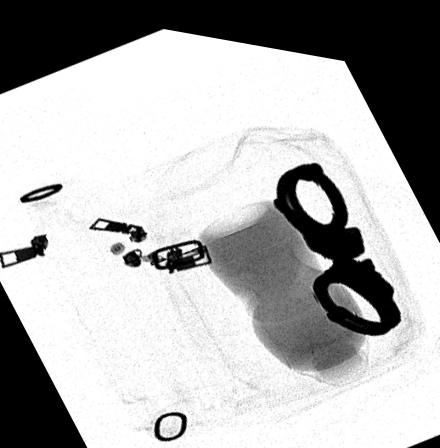HandCuffs: (271, 149, 400, 321)
